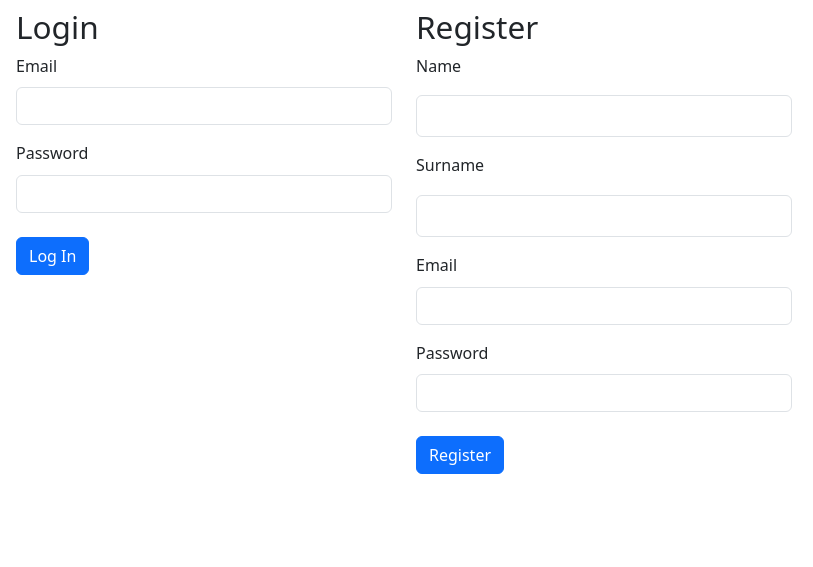
Auth Page Tests › Registration Tests › should show error for weak password
Type "string" into the field with test id "name-input" at (604, 117), box [416, 96, 792, 138]
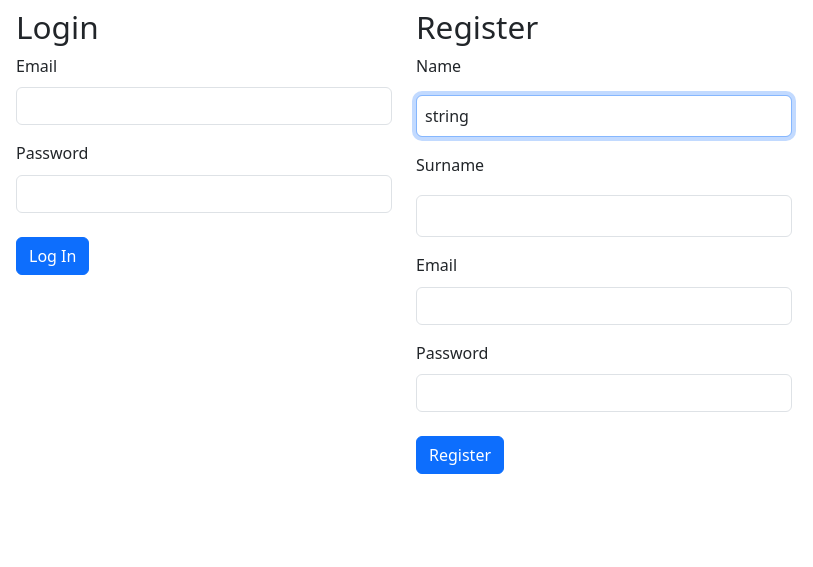
Type "string" into the field with test id "surname-input" at (604, 216), box [416, 195, 792, 237]
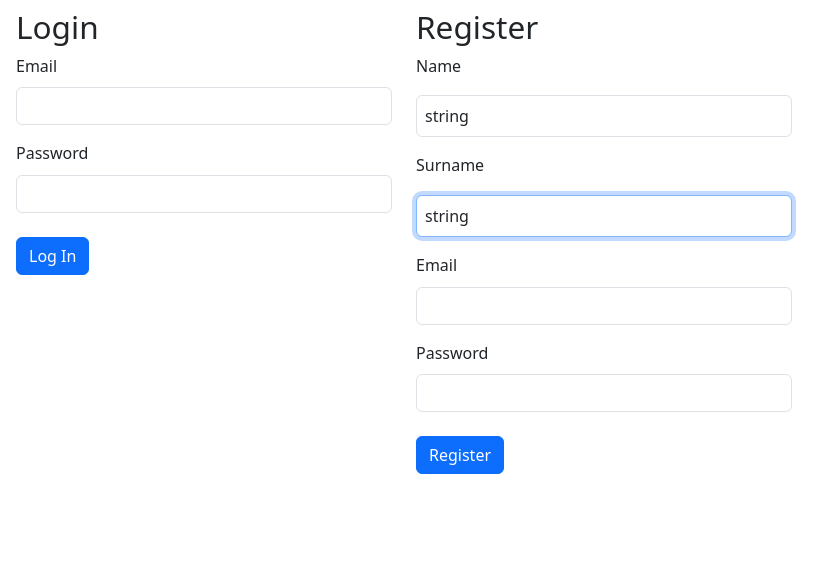
Type "user@example.com" into the field with test id "email-input" at (604, 306), box [416, 287, 792, 325]
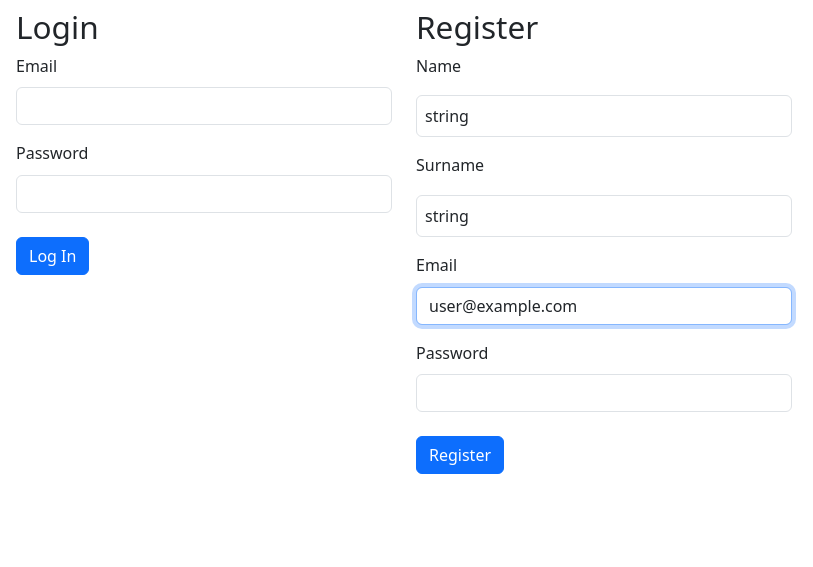
Type "123" into the password field with test id "password-input" at (604, 393), box [416, 374, 792, 412]
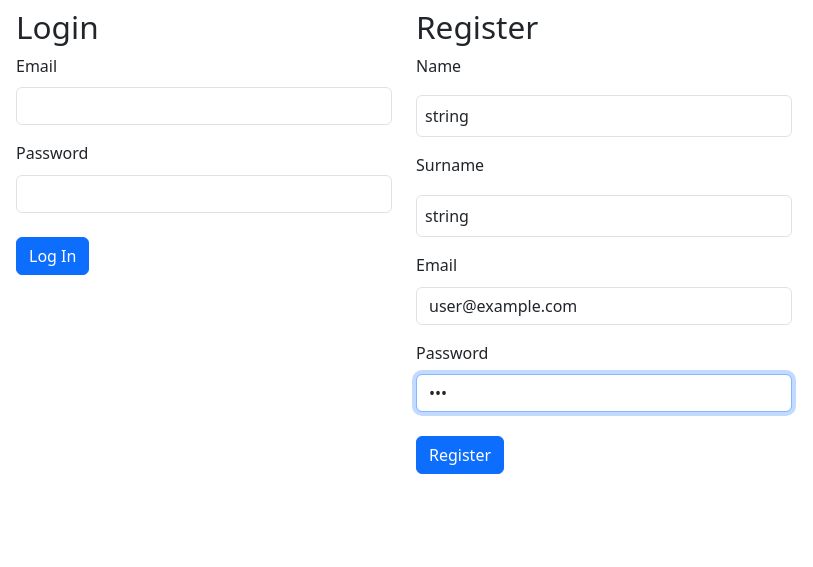
Click the button with test id "submit-button" at (460, 455), box [416, 436, 504, 474]
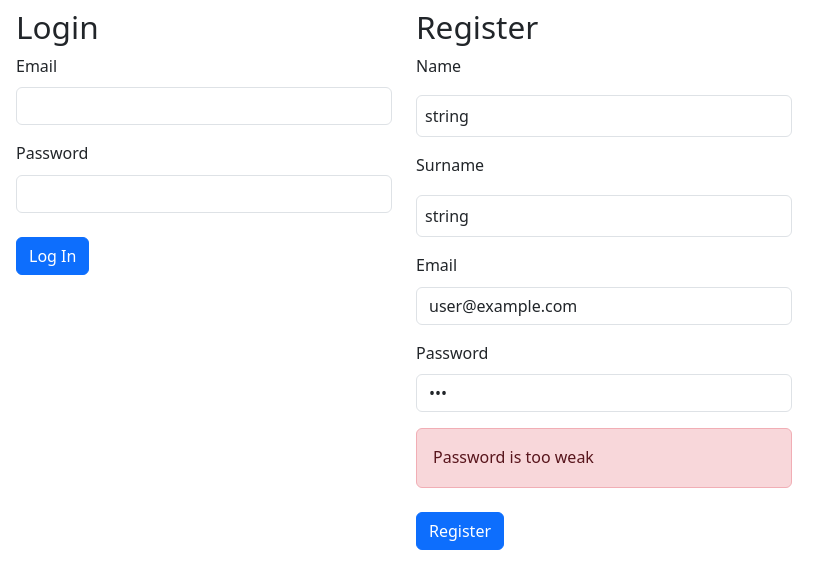
Expected: the text "Password is too weak" is shown, [416, 428, 792, 488]
Expected: the text with test id "error-message" reads "Password is too weak", [433, 446, 594, 468]
